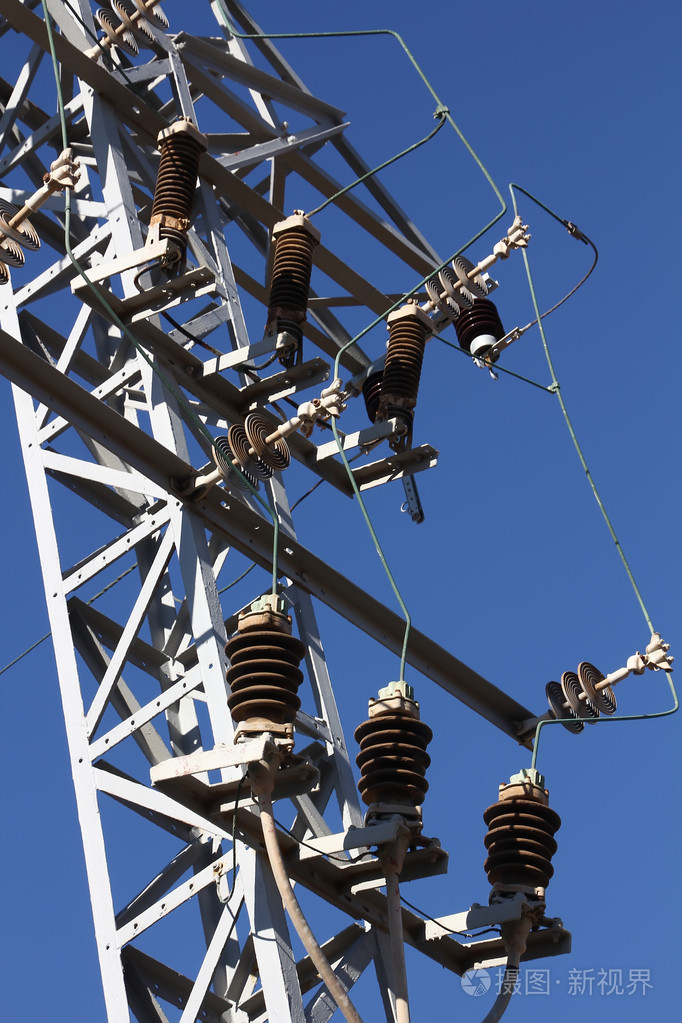insulator: (209, 411, 300, 500), (539, 661, 619, 733), (98, 1, 171, 60), (415, 257, 487, 313), (1, 205, 47, 278)
